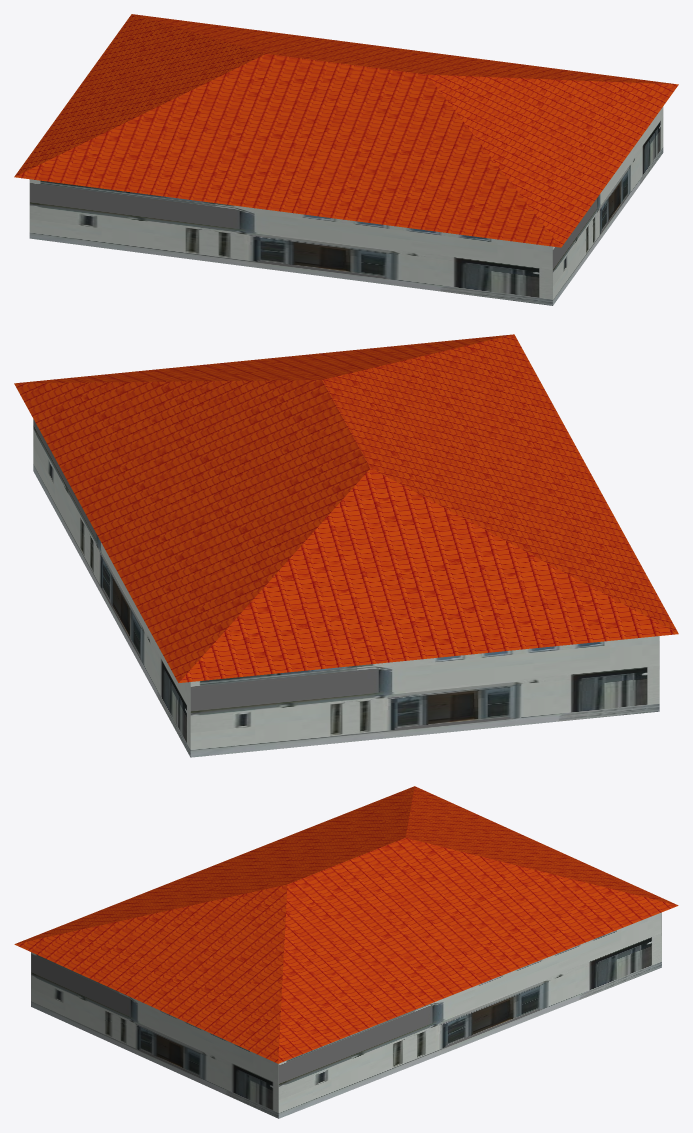
3 renders of one model, top to bottom at view 1: azimuth 30°, elevation 25°; view 2: azimuth 150°, elevation 25°; view 3: azimuth 270°, elevation 25°, orthographic. The views are drawn at different scales.
Visible parts, largest first — view 1: CityEngineMaterial_12_m, CityEngineMaterial_11_m; view 2: CityEngineMaterial_12_m, CityEngineMaterial_11_m; view 3: CityEngineMaterial_12_m, CityEngineMaterial_11_m.
Boxes of the visible parts, x1,y1,x2,y2 form: CityEngineMaterial_12_m: (14,14,678,247); CityEngineMaterial_11_m: (29,106,663,305); CityEngineMaterial_12_m: (14,334,678,682); CityEngineMaterial_11_m: (33,419,659,757); CityEngineMaterial_12_m: (14,786,678,1063); CityEngineMaterial_11_m: (31,912,661,1118).
Bounding box in the file's own units: 50.93 × 10.78 × 51.54.
